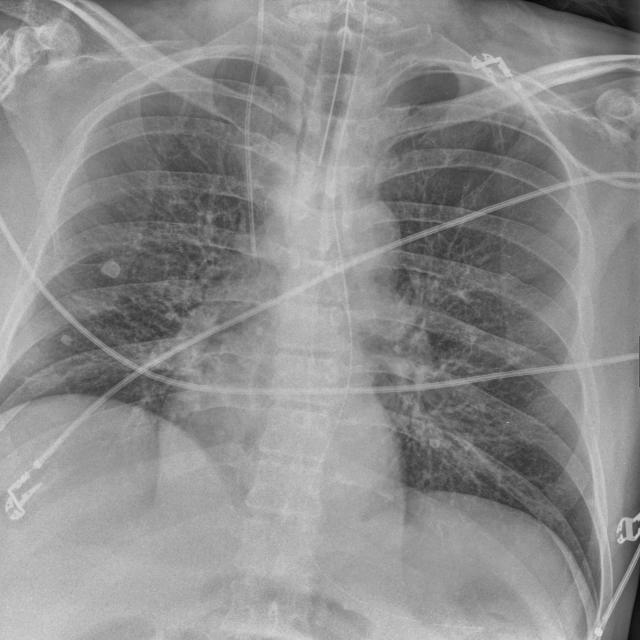abnormalities: (95, 247, 127, 288), (54, 328, 77, 352), (425, 434, 442, 454)
diaphragm: (0, 402, 592, 639)
heart: (158, 194, 408, 580)
left_lobe: (336, 55, 606, 619)
right_lobe: (0, 44, 308, 498)
